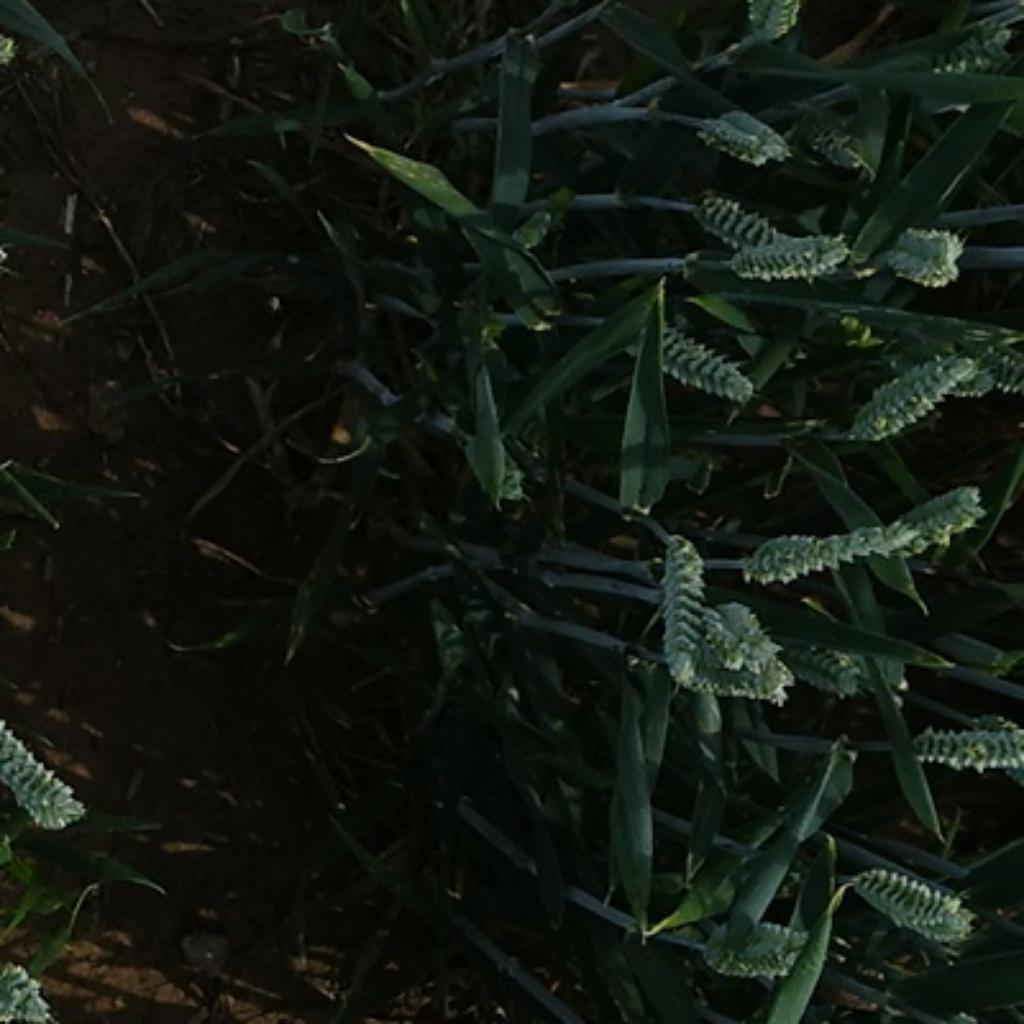0-0: (0, 686, 92, 837), (838, 854, 977, 941), (721, 517, 896, 583), (706, 212, 860, 286), (861, 354, 976, 451), (860, 483, 995, 565), (642, 314, 757, 407), (642, 524, 711, 660), (691, 913, 811, 983), (908, 709, 1024, 780), (911, 7, 1024, 76), (683, 181, 788, 253), (696, 583, 780, 673), (872, 215, 970, 289), (686, 102, 793, 163), (780, 634, 878, 698), (660, 657, 791, 704), (890, 354, 993, 404), (791, 107, 870, 171), (959, 324, 1024, 398), (0, 962, 55, 1024), (739, 0, 816, 43)
